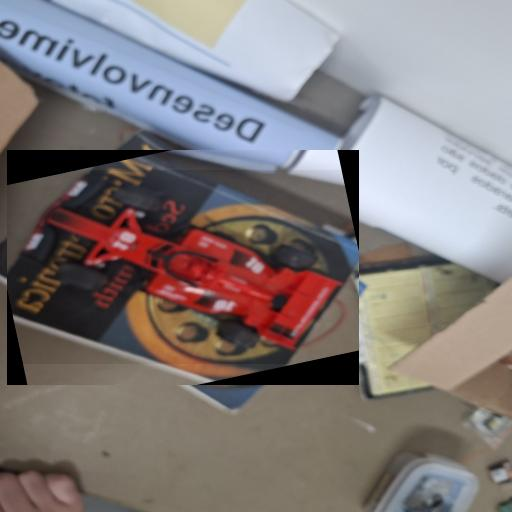carro: (7, 170, 359, 364)
